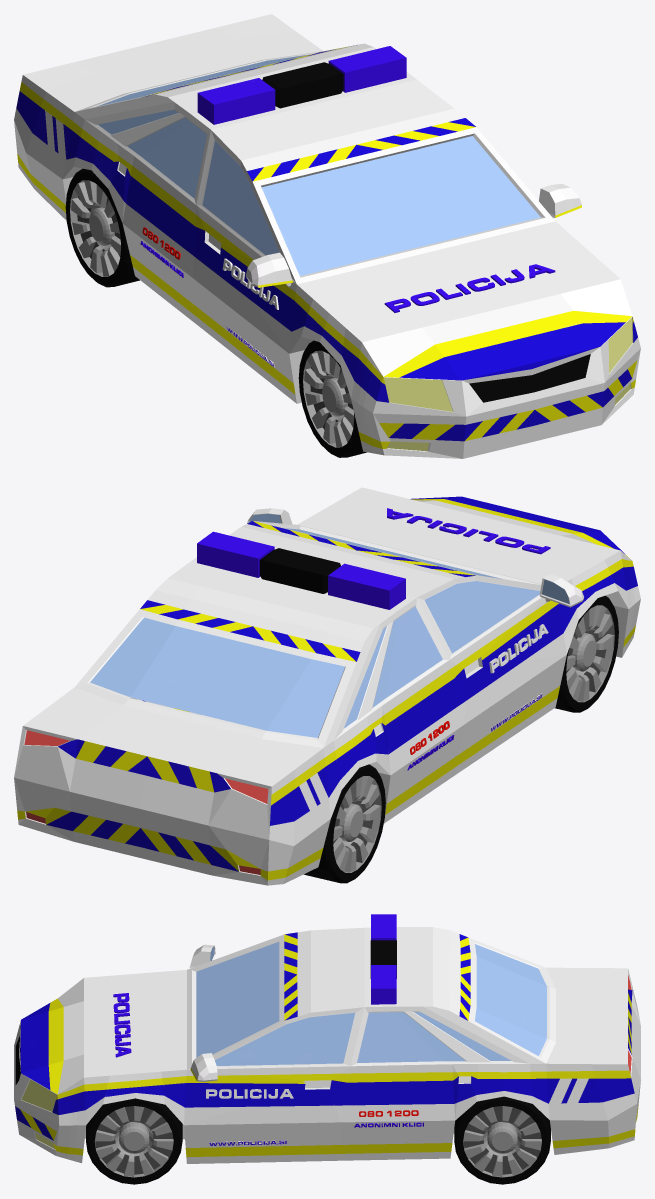
File: policijskiAvto.glb
3 views of the same model, one above another, from view 1: azimuth 30°, elevation 25°; view 2: azimuth 150°, elevation 25°; view 3: azimuth 270°, elevation 25° (orthographic). The views are drawn at different scales.
Visible parts, largest first — view 1: Avto, Kolo.004, Lucka, Kolo.001, Cube, Cube.001, PolicijaText3; view 2: Avto, Kolo.004, Lucka, Kolo.001, Cube, Cube.001, PolicijaText3, PolicijaText2; view 3: Avto, Kolo.002, Kolo, Lucka, Cube.001, PolicijaText3, Cube, PolicijaText1.
Part boxes in pixels (x1,y1,x2,y2): Avto: (14,14,640,458); Kolo.004: (65,168,139,287); Lucka: (197,46,406,124); Kolo.001: (298,340,366,457); Cube: (262,62,343,108); Cube.001: (245,184,581,287); PolicijaText3: (384,264,555,312); Avto: (14,487,640,885); Kolo.004: (304,764,385,883); Lucka: (197,531,405,609); Kolo.001: (555,595,618,712); Cube: (259,548,340,593); Cube.001: (247,508,583,607); PolicijaText3: (387,508,550,554); PolicijaText2: (489,624,548,673); Avto: (14,927,640,1163); Kolo.002: (454,1096,550,1184); Kolo: (86,1098,182,1184); Lucka: (371,914,396,1004); Cube.001: (189,944,217,1081); PolicijaText3: (113,993,131,1057); Cube: (370,940,396,978); PolicijaText1: (206,1089,293,1098).
Size of the model in its own units: 1.82 by 1.22 by 3.79.
Materials: 5 (5 with a texture image).
